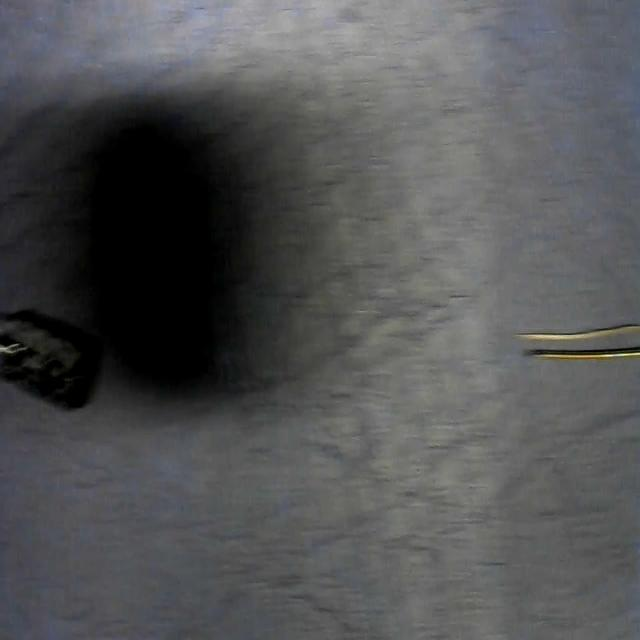capacitor: (0, 304, 95, 405)
